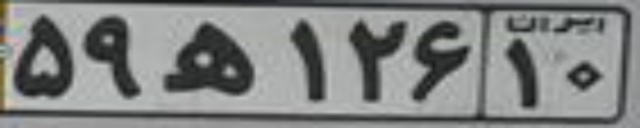0: (562, 59, 606, 92)
1: (290, 17, 326, 100), (504, 36, 536, 108)
2: (347, 19, 403, 101)
5: (11, 14, 73, 97)
6: (412, 21, 469, 101)
9: (83, 14, 137, 97)
he: (157, 20, 256, 94)
